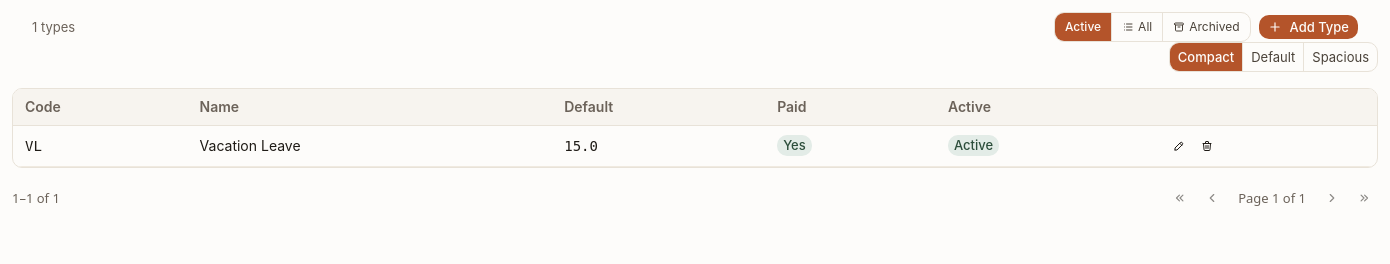
leave type archive actions › keeps Edit for active rows and exposes Restore instead of Edit for archived rows
Check: the button named "Edit Vacation Leave" is shown, box [1167,134,1191,158]
Check: the button named "Archive Vacation Leave" is shown, box [1195,134,1219,158]
Click the radio button with aria-label "Show active and archived records" at (1138, 27), box [1112,13,1163,41]
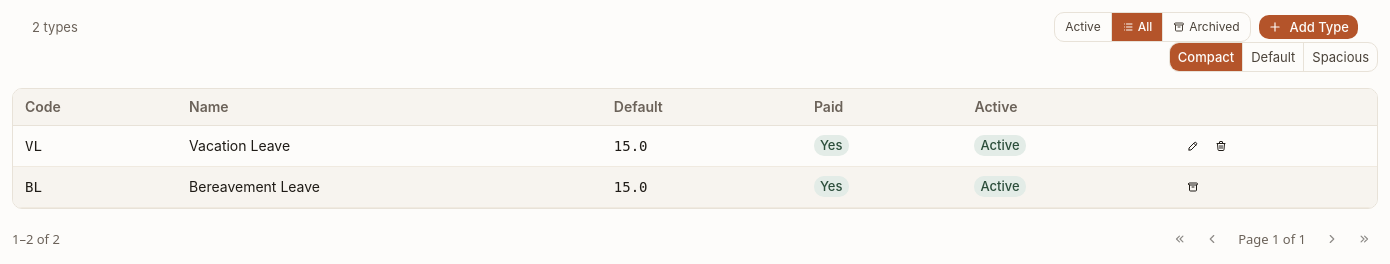
Check: the button named "Edit Vacation Leave" is shown, box [1181,134,1205,158]
Check: the button named "Restore Bereavement Leave" is shown, box [1181,174,1205,198]
Check: the button named "Archive Vacation Leave" is shown, box [1209,134,1233,158]
Click the radio button with aria-label "Show archived records only" at (1206, 27), box [1163,13,1250,41]
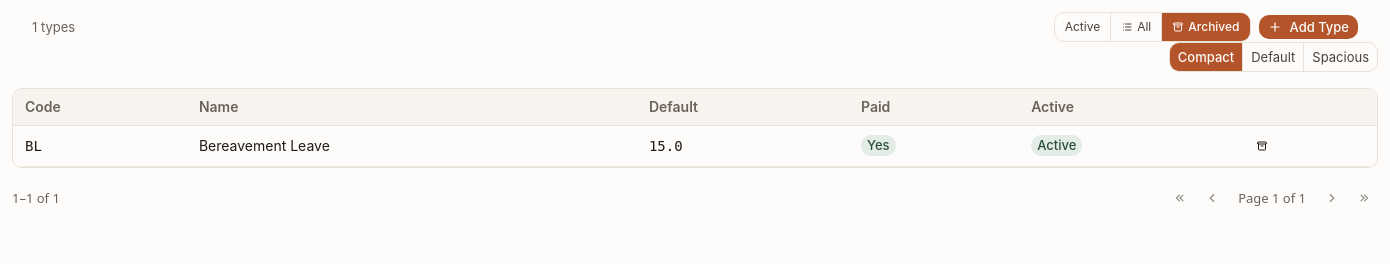
Check: the button named "Restore Bereavement Leave" is shown, box [1250,134,1274,158]
